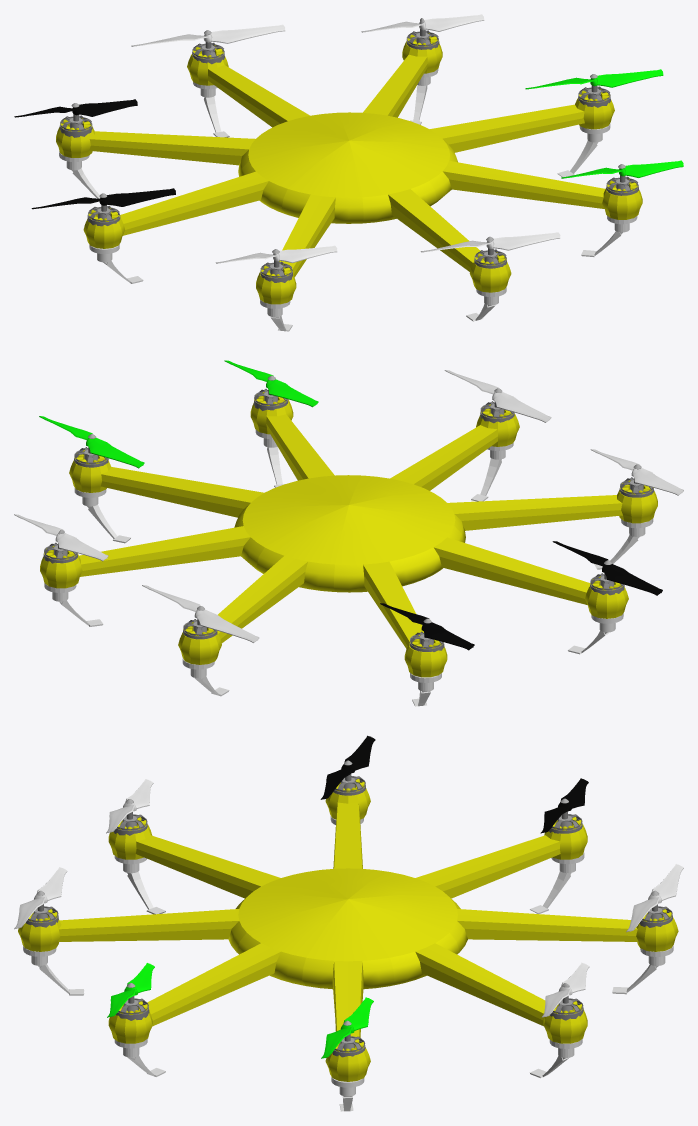
Rendered from uav_8_3.fbx.
The picture shows the model from 3 angles, top to bottom: view 1: azimuth 30°, elevation 25°; view 2: azimuth 150°, elevation 25°; view 3: azimuth 270°, elevation 25°; orthographic projection. The views are drawn at different scales.
Visible parts, largest first — view 1: pCylinder331, polySurface204, polySurface208, polySurface194, polySurface200, polySurface196, polySurface198, polySurface202, polySurface206, pCube130, pCube131, pCube132 (+3 smaller); view 2: pCylinder331, polySurface204, polySurface208, polySurface194, polySurface200, polySurface196, polySurface198, polySurface202, polySurface206, pCube130, pCube125, pCube126 (+4 smaller); view 3: pCylinder331, polySurface204, polySurface208, polySurface194, polySurface200, polySurface196, polySurface198, polySurface202, polySurface206, pCube129, pCube126, pCube125 (+3 smaller).
Boxes of the visible parts, box(x1,y1,x2,y2) form: pCylinder331: box(56, 41, 642, 304); polySurface204: box(131, 24, 285, 46); polySurface208: box(31, 188, 175, 209); polySurface194: box(420, 232, 560, 252); polySurface200: box(525, 69, 663, 89); polySurface196: box(361, 14, 484, 32); polySurface198: box(14, 99, 137, 117); polySurface202: box(561, 160, 683, 178); polySurface206: box(215, 245, 337, 263); pCube130: box(557, 123, 610, 178); pCube131: box(193, 82, 229, 137); pCube132: box(410, 69, 438, 124); pCylinder331: box(40, 400, 657, 677); polySurface204: box(142, 585, 259, 642); polySurface208: box(552, 541, 662, 595); polySurface194: box(444, 370, 551, 422); polySurface200: box(39, 416, 144, 468); polySurface196: box(14, 514, 108, 561); polySurface198: box(380, 603, 474, 650); polySurface202: box(224, 360, 318, 407); polySurface206: box(590, 449, 683, 495); pCube130: box(74, 488, 130, 543); pCube125: box(471, 443, 513, 501); pCube126: box(594, 518, 653, 569); pCylinder331: box(18, 788, 678, 1081); polySurface204: box(626, 864, 683, 932); polySurface208: box(320, 735, 375, 799); polySurface194: box(14, 867, 67, 929); polySurface200: box(321, 997, 373, 1058); polySurface196: box(541, 962, 589, 1017); polySurface198: box(540, 778, 588, 833); polySurface202: box(107, 963, 154, 1017); polySurface206: box(106, 779, 153, 833); pCube129: box(530, 851, 584, 913); pCube126: box(114, 856, 165, 914); pCube125: box(23, 945, 84, 995).
Size of the model in its own units: 46.14 by 6.79 by 40.27.
